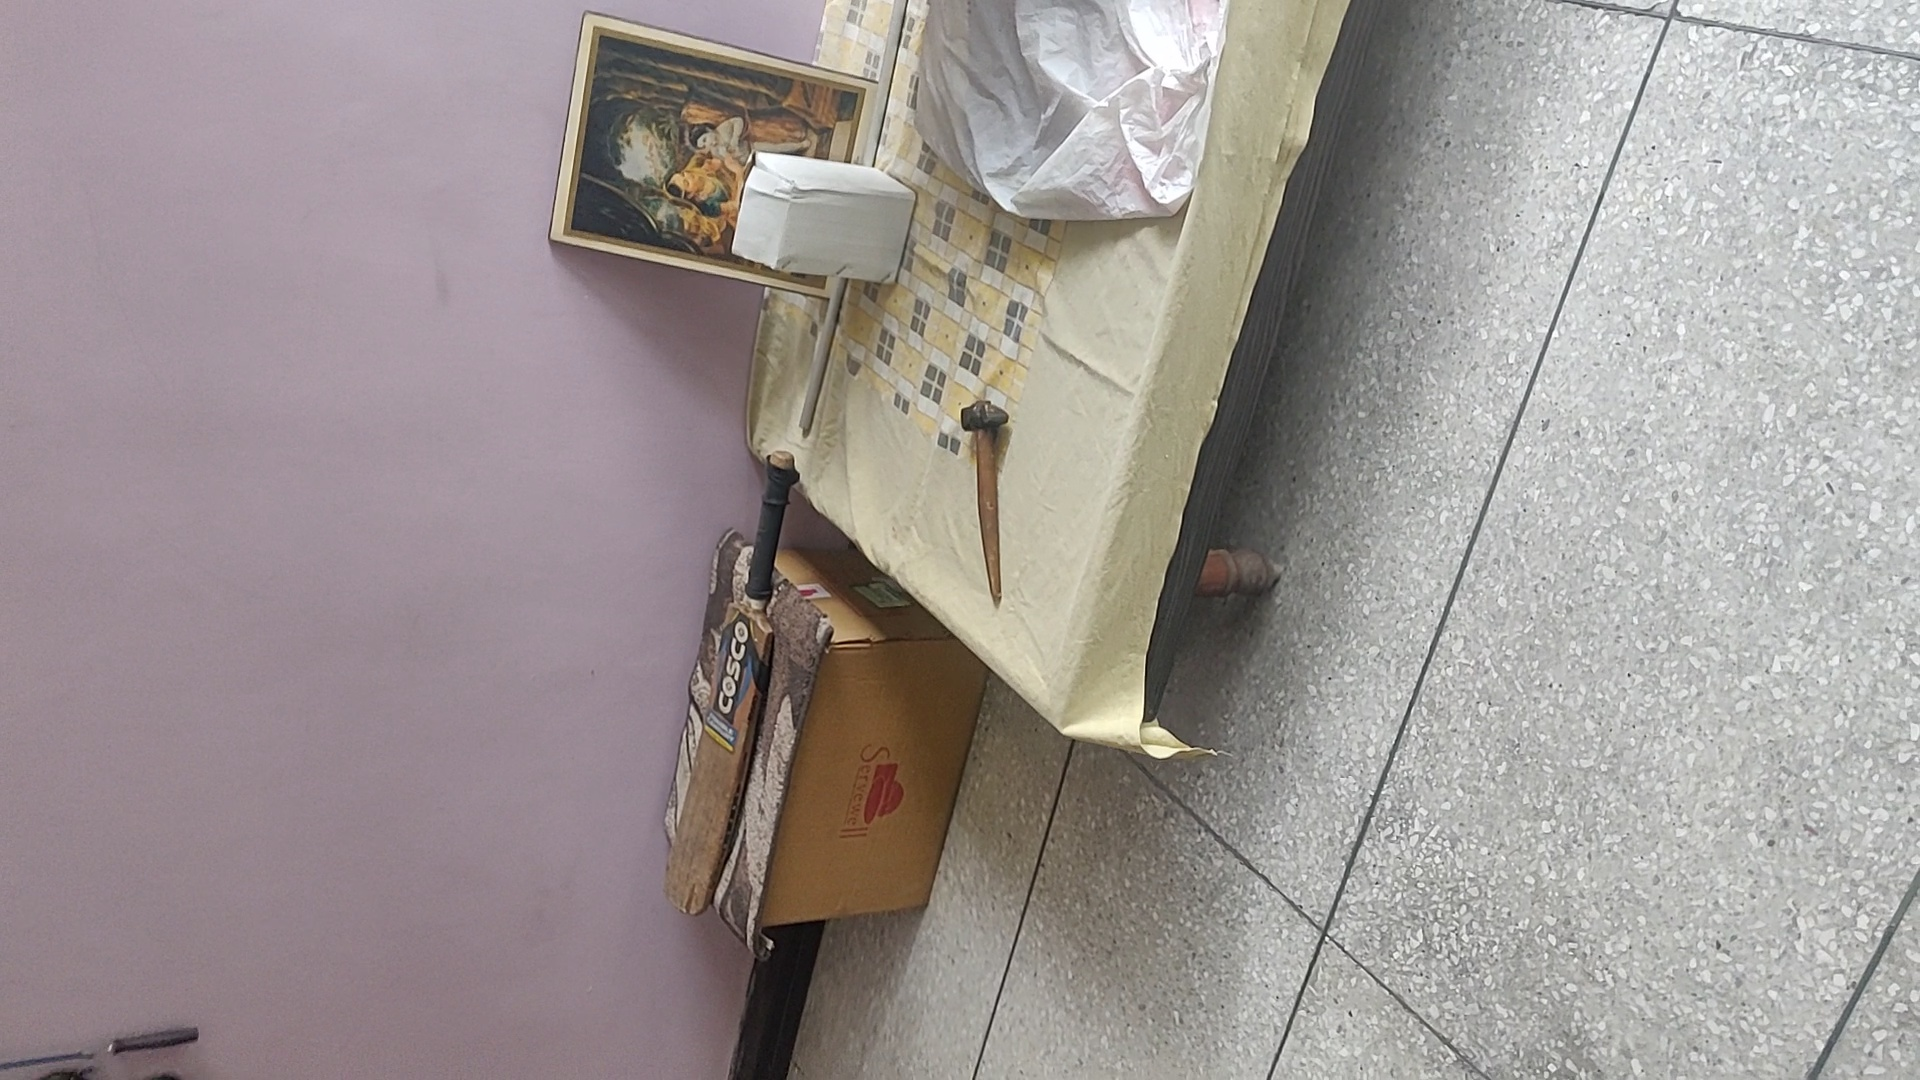hammer: (956, 400, 1013, 605)
